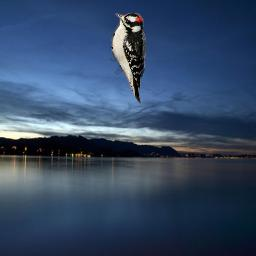Woodpecker: (110, 13, 146, 104)
